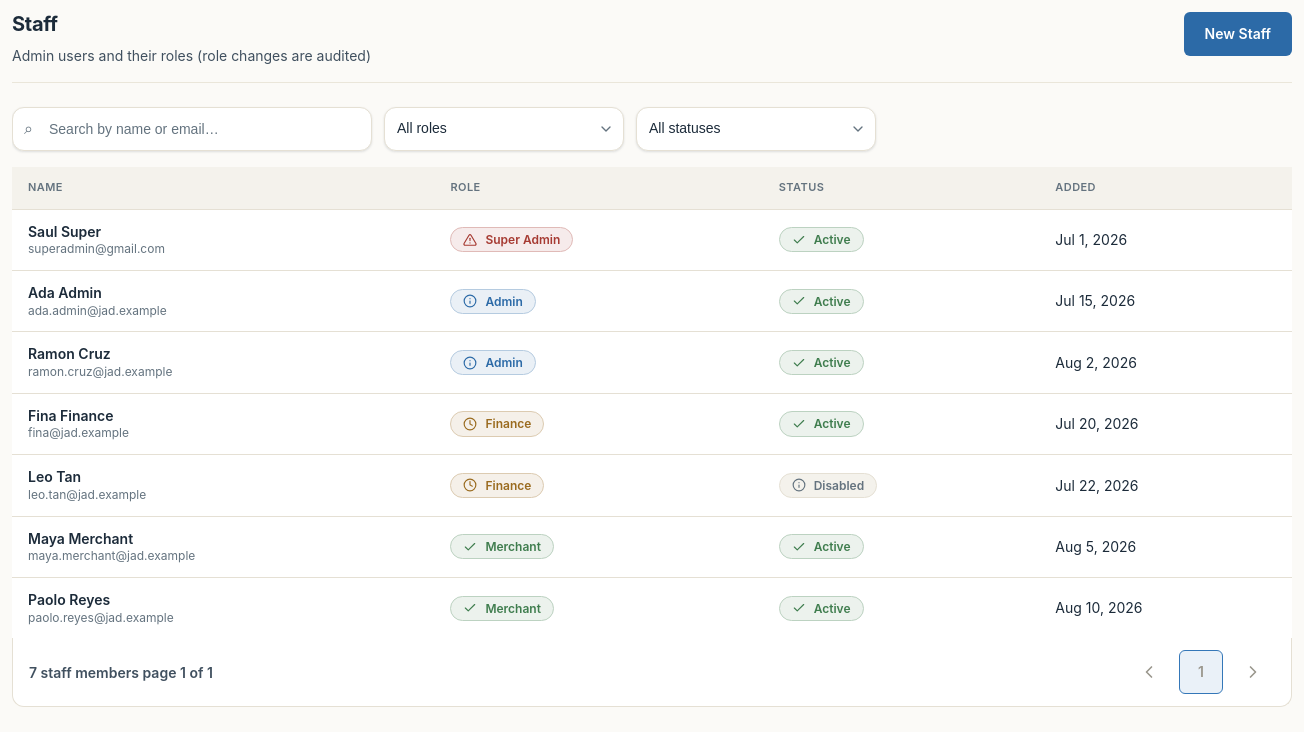
StaffPage › filters by role
Expected: the text "Saul Super" is shown, top-left (28, 223), bottom-right (101, 240)
Step 1. Select "Finance" in the dropdown named "Filter by role" → (504, 129), box top-left (384, 107), bottom-right (624, 151)
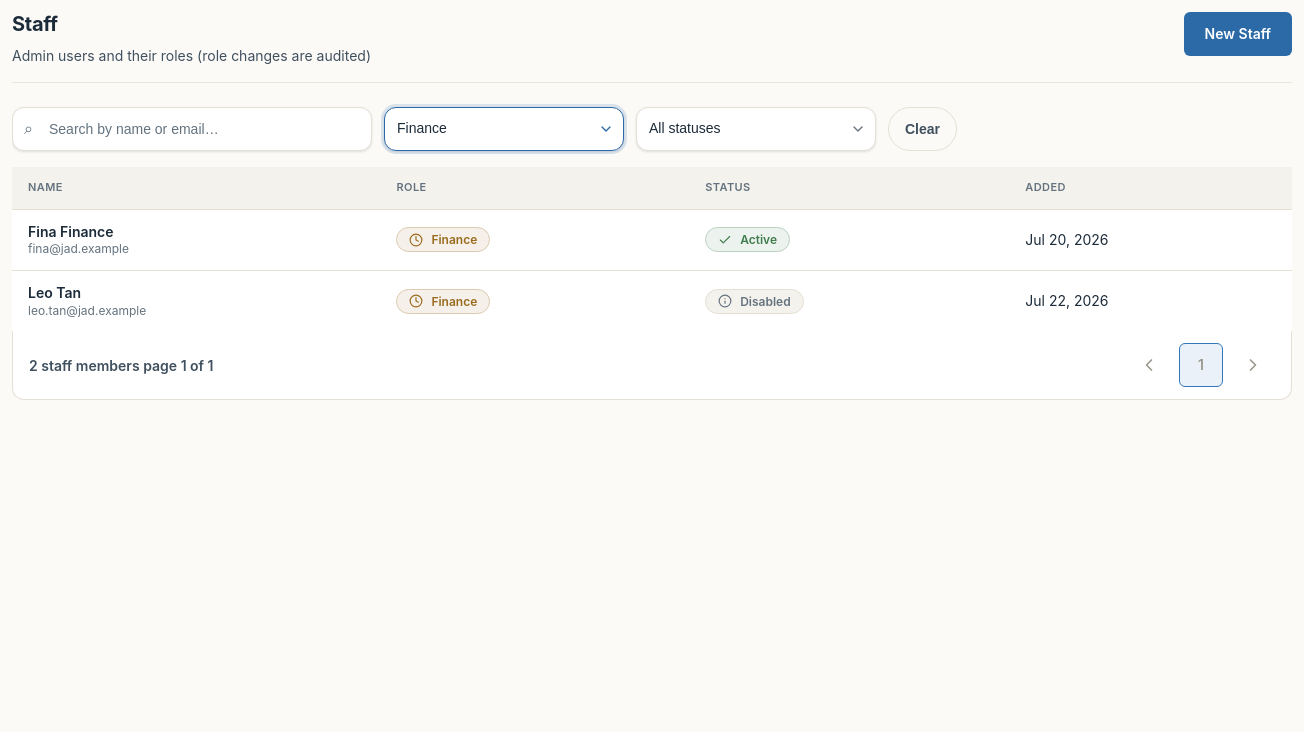
Expected: the text "Fina Finance" is shown, top-left (28, 223), bottom-right (114, 240)
Result: the text "Saul Super" is gone
Result: the text "2 staff members page 1 of 1" is shown at top-left (29, 356), bottom-right (214, 375)
